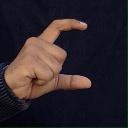hand: (3, 17, 92, 100)
